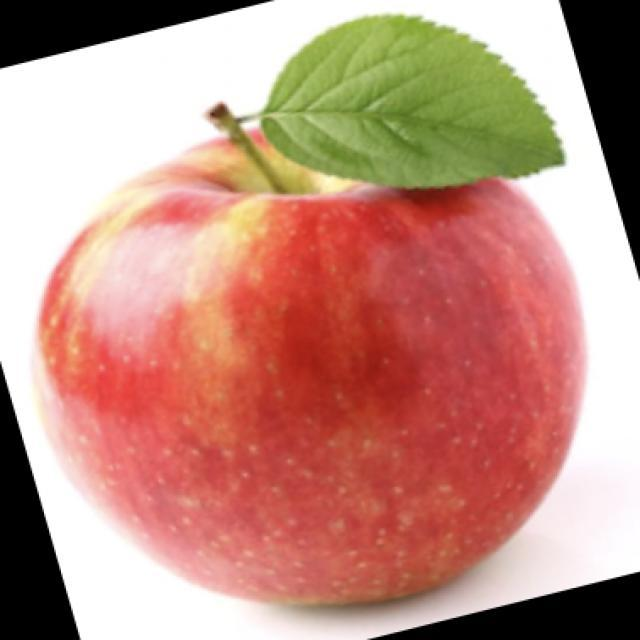Fresh Apple: (53, 115, 587, 627)
